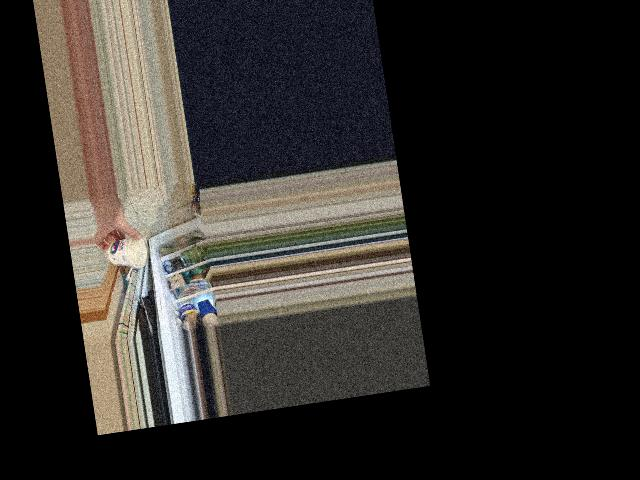cotage: (106, 233, 148, 269)
